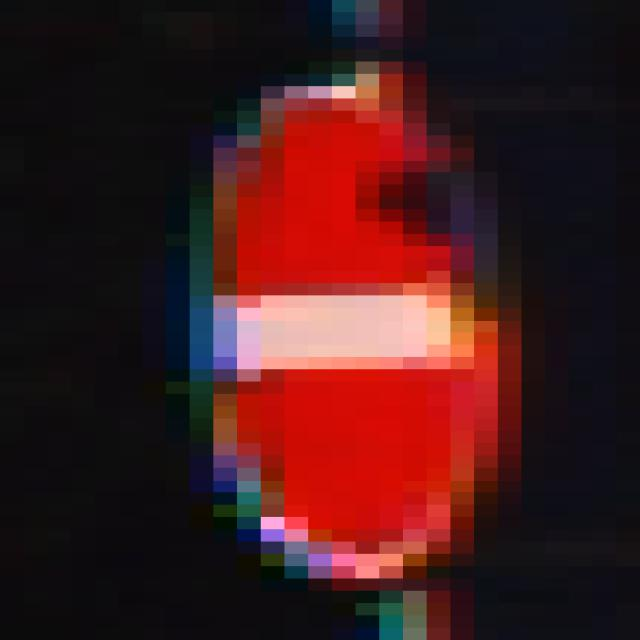No Entry: (143, 75, 523, 579)
